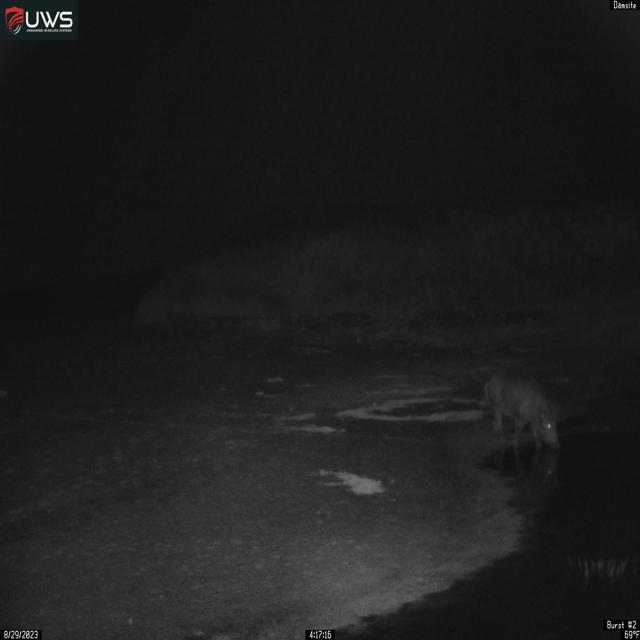pig: (484, 370, 562, 450)
